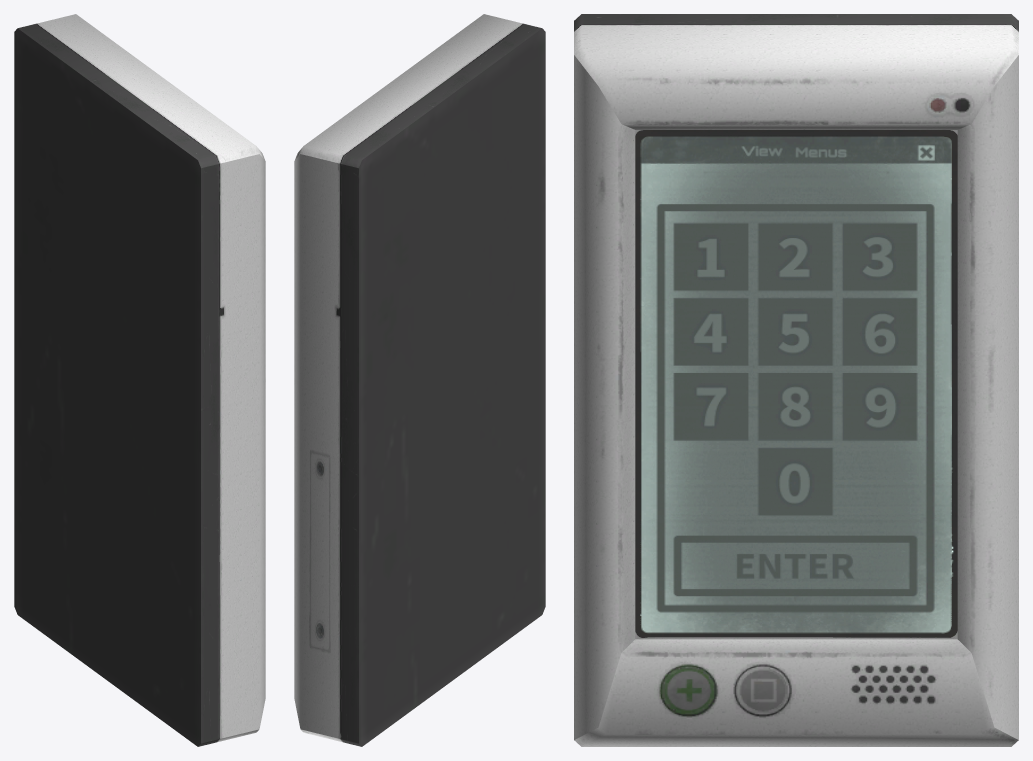
The model's file is SM_KeyPad_01a.glb.
3 views of the same model, side by side, from view 1: azimuth 30°, elevation 25°; view 2: azimuth 150°, elevation 25°; view 3: azimuth 270°, elevation 25° (orthographic). The views are drawn at different scales.
Parts seen in each view (by area): view 1: SM_KeyPad_01a; view 2: SM_KeyPad_01a; view 3: SM_KeyPad_01a.
Boxes of the visible parts, box(x1,y1,x2,y2) form: SM_KeyPad_01a: box(14, 14, 265, 746); SM_KeyPad_01a: box(294, 14, 545, 746); SM_KeyPad_01a: box(574, 14, 1018, 746).
Bounding box in the file's own units: 0.0404 × 0.3035 × 0.175.
1 material, 1 textured.
